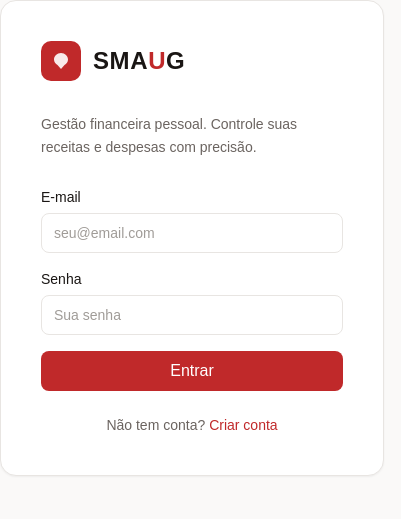
Test: página de login › com e-mail fora do formato nem chega à API
Type "abc" into the field labelled "E-mail". click: (192, 232)
box: top-left (41, 212), bottom-right (343, 252)
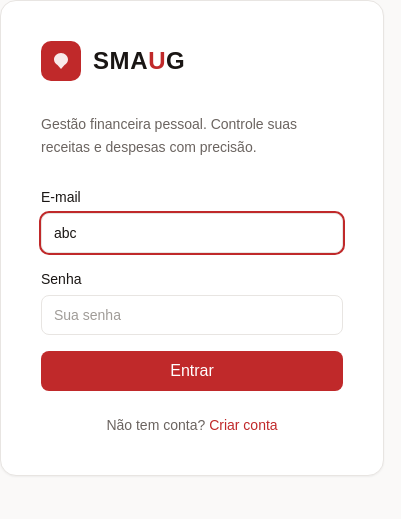
Type "senha muito segura" into the password field labelled "Senha". click: (192, 314)
box: top-left (41, 294), bottom-right (343, 334)
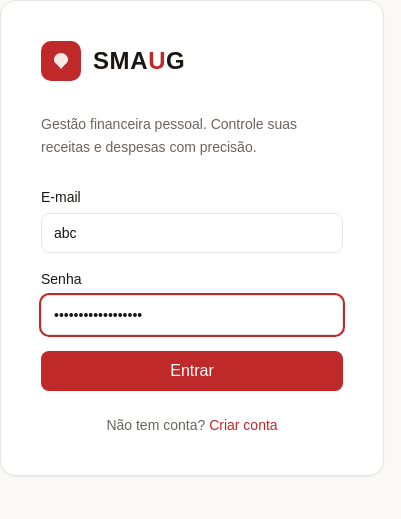
Click the button "Entrar". click: (192, 370)
box: top-left (41, 350), bottom-right (343, 390)
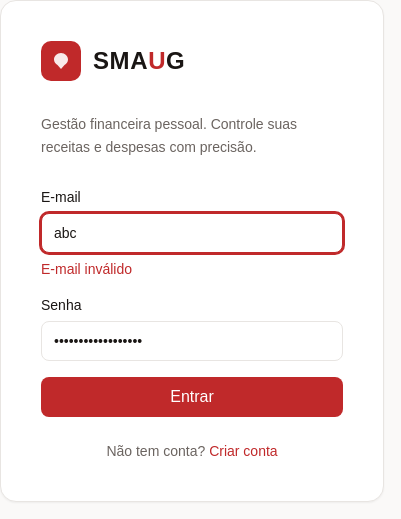
Check: the text "E-mail inválido" is shown, box top-left (41, 260), bottom-right (132, 276)
